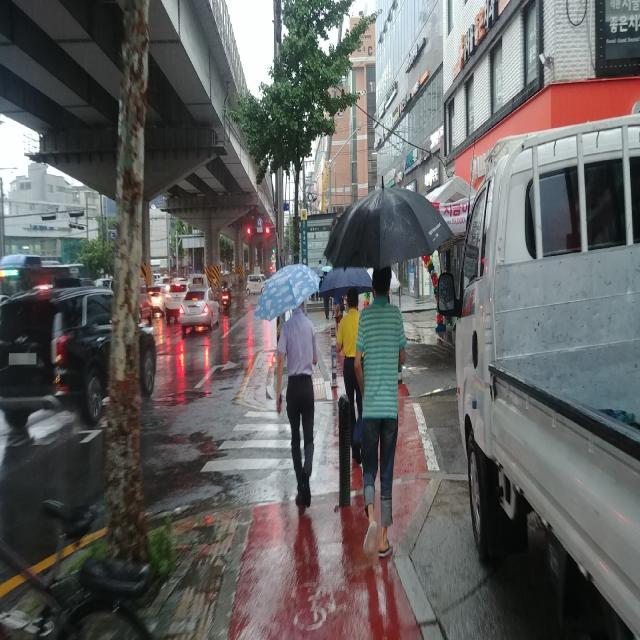횡단보도: (199, 409, 324, 474)
